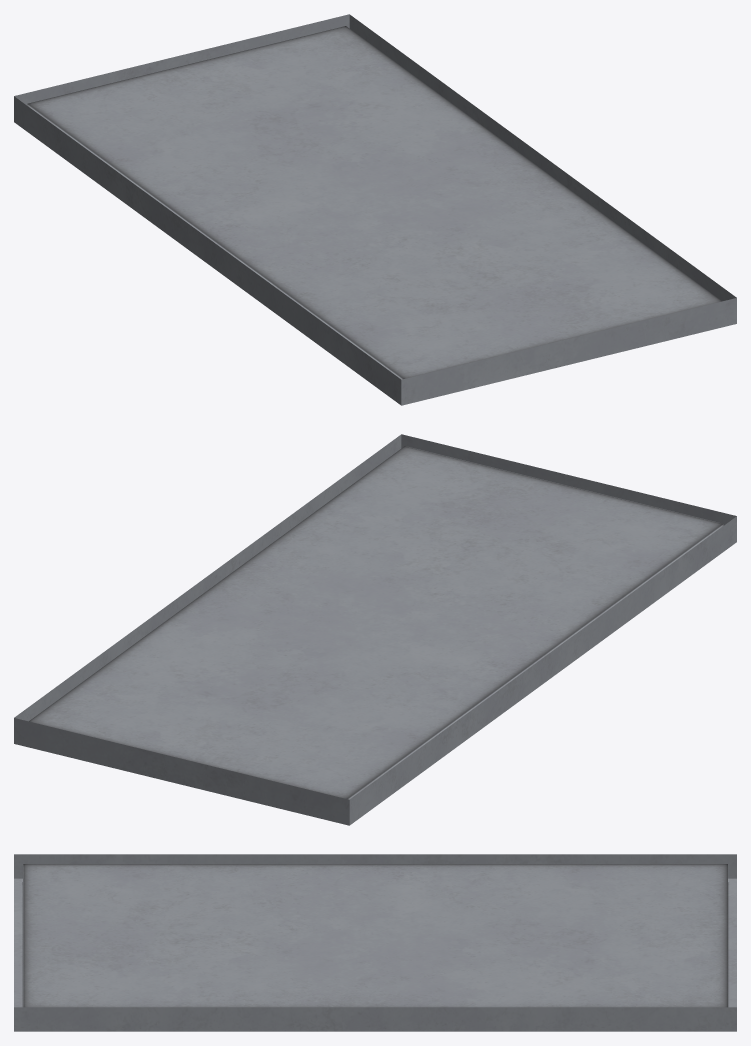
File: Ceiling Light 2x4.fbx
3 views of the same model, one above another, from view 1: azimuth 30°, elevation 25°; view 2: azimuth 150°, elevation 25°; view 3: azimuth 270°, elevation 25° (orthographic). The views are drawn at different scales.
Visible parts, largest first — view 1: Ceiling_Light; view 2: Ceiling_Light; view 3: Ceiling_Light.
Part boxes in pixels (left/top/right/bottom): Ceiling_Light: left=14, top=14, right=736, bottom=405; Ceiling_Light: left=14, top=434, right=736, bottom=825; Ceiling_Light: left=14, top=854, right=736, bottom=1031.
Size of the model in its own units: 80 by 5.93 by 160.
